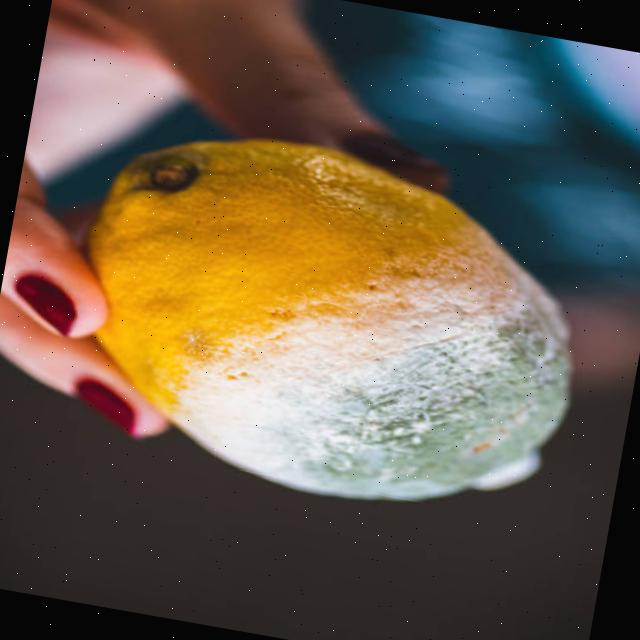Rotten: (54, 102, 611, 536)
